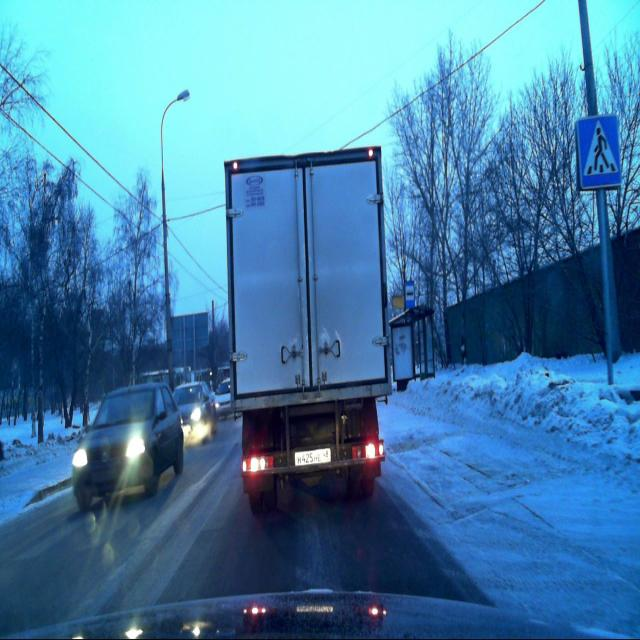object: (598, 188, 614, 386)
road sign: (576, 115, 622, 188), (404, 282, 416, 308)
